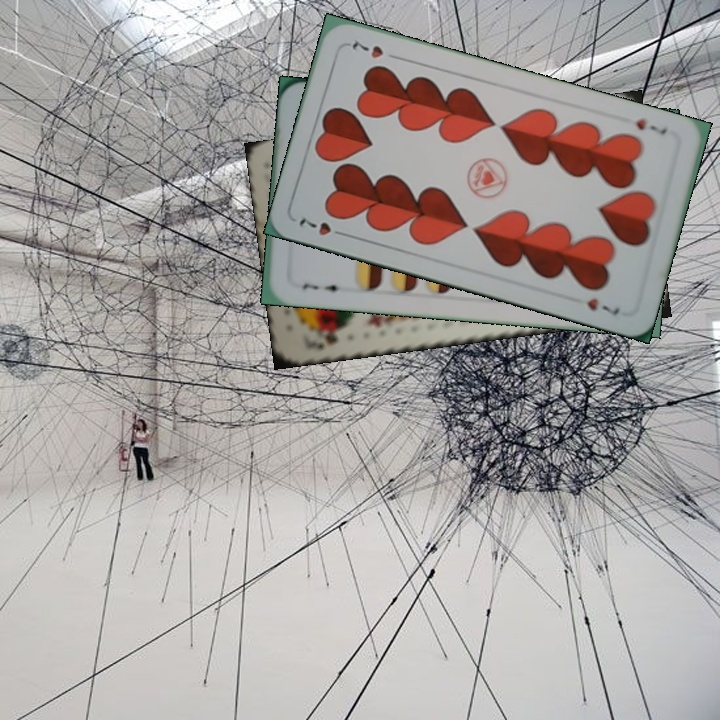E7: (298, 279, 346, 295)
H7: (295, 214, 351, 240), (631, 114, 670, 137)
SK: (314, 324, 350, 353)
